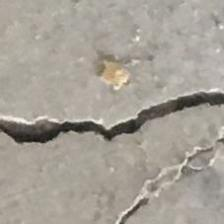Crack: (0, 83, 224, 181)
